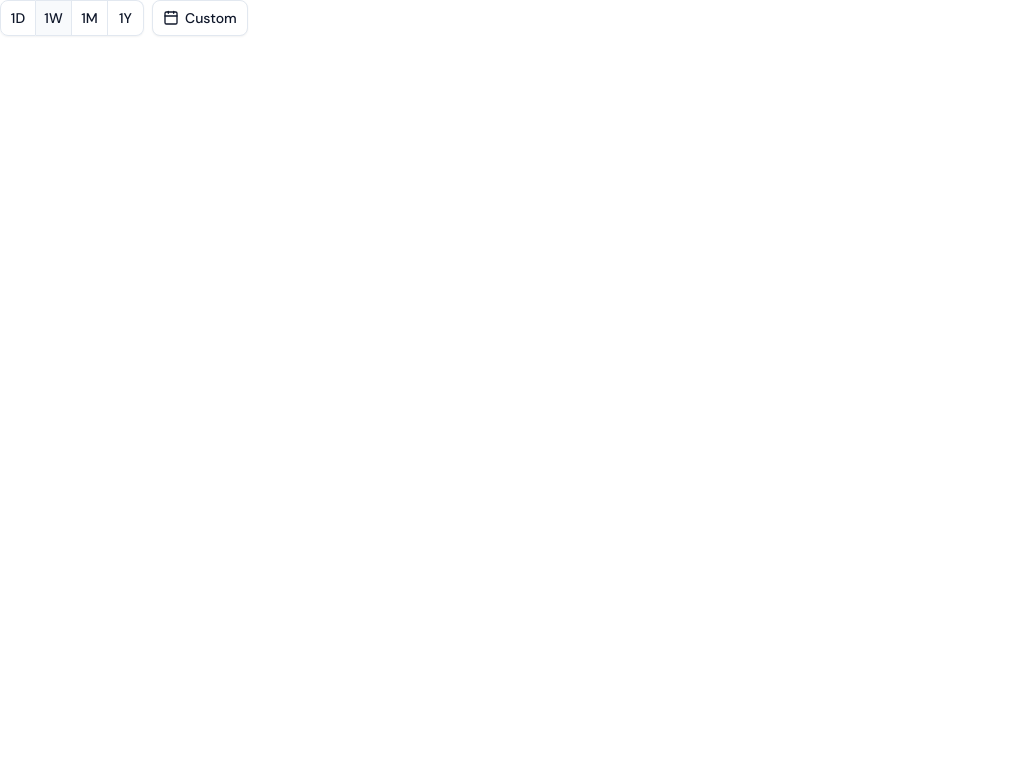
Test: TimeRangeFilter › shows a validation error under each field on submit when both are empty
Click the button with aria-label "choose a custom date range": (200, 18) [152, 0, 248, 36]
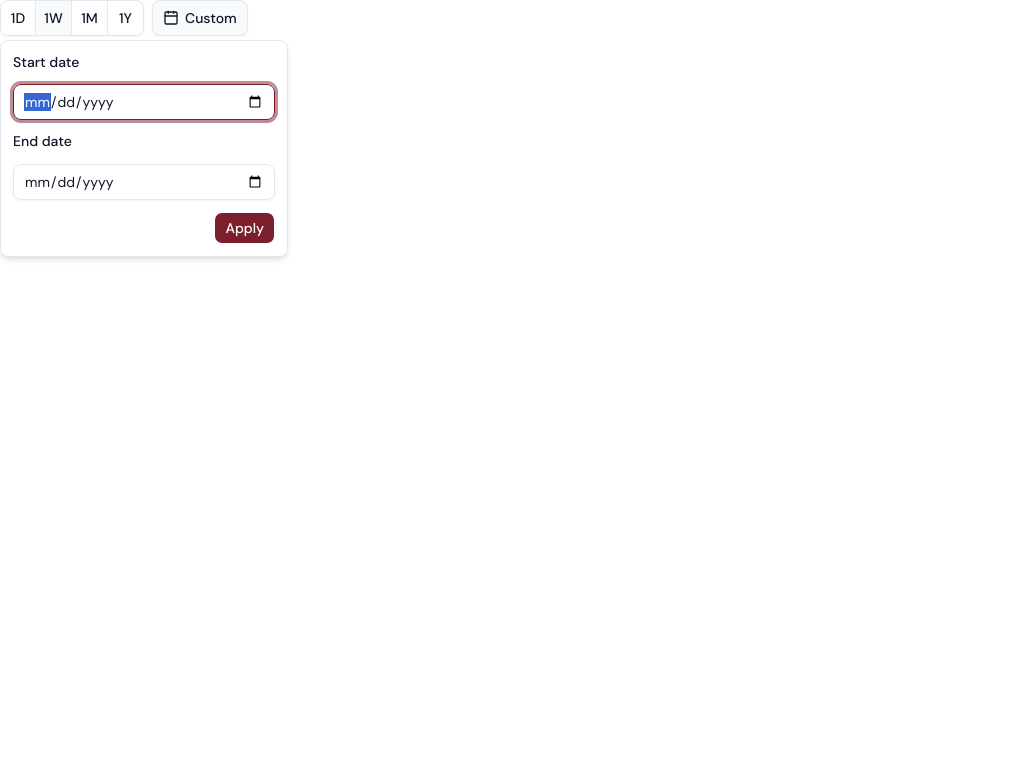
Click the button "Apply": (245, 228) [214, 212, 275, 244]
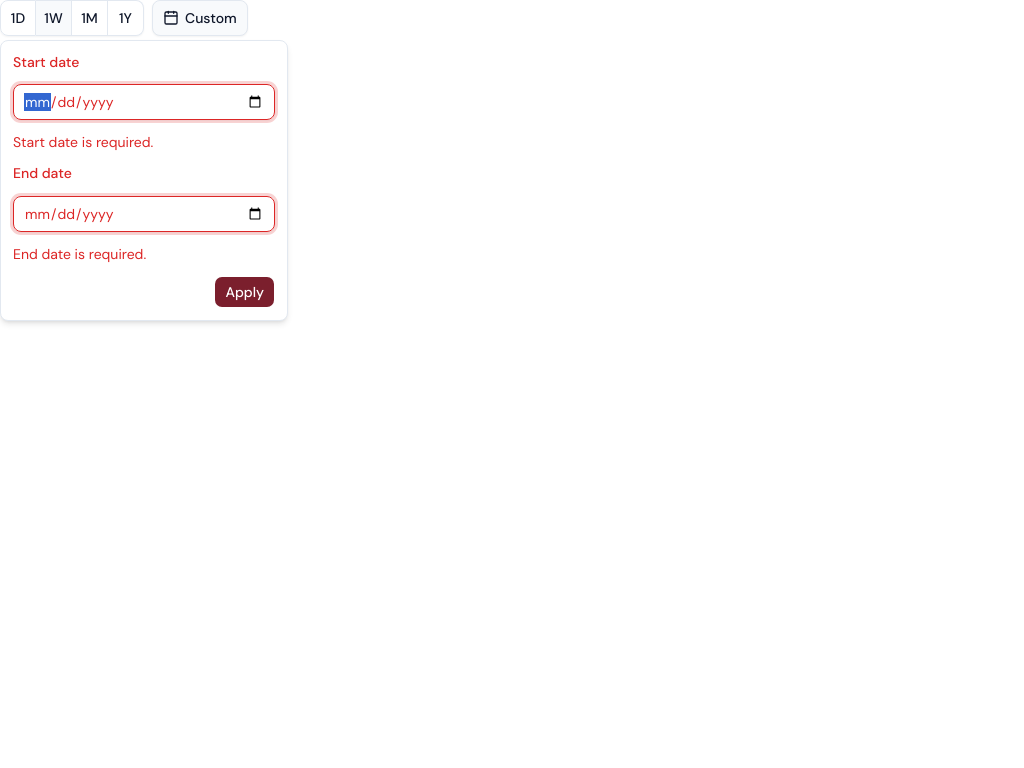
Result: the text "Start date is required." is shown at [13, 133, 153, 151]
Result: the text "End date is required." is shown at [13, 244, 146, 262]
